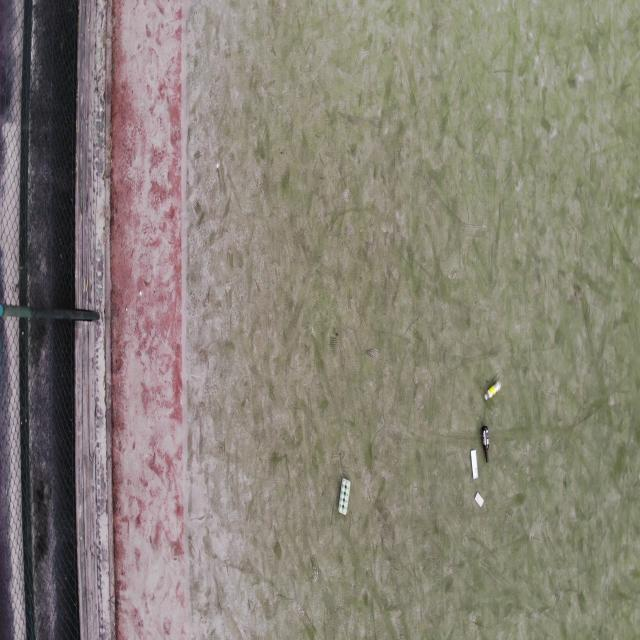rubbish: (484, 378, 503, 401), (338, 479, 350, 515), (480, 425, 489, 463), (470, 449, 479, 478), (475, 494, 484, 508)
